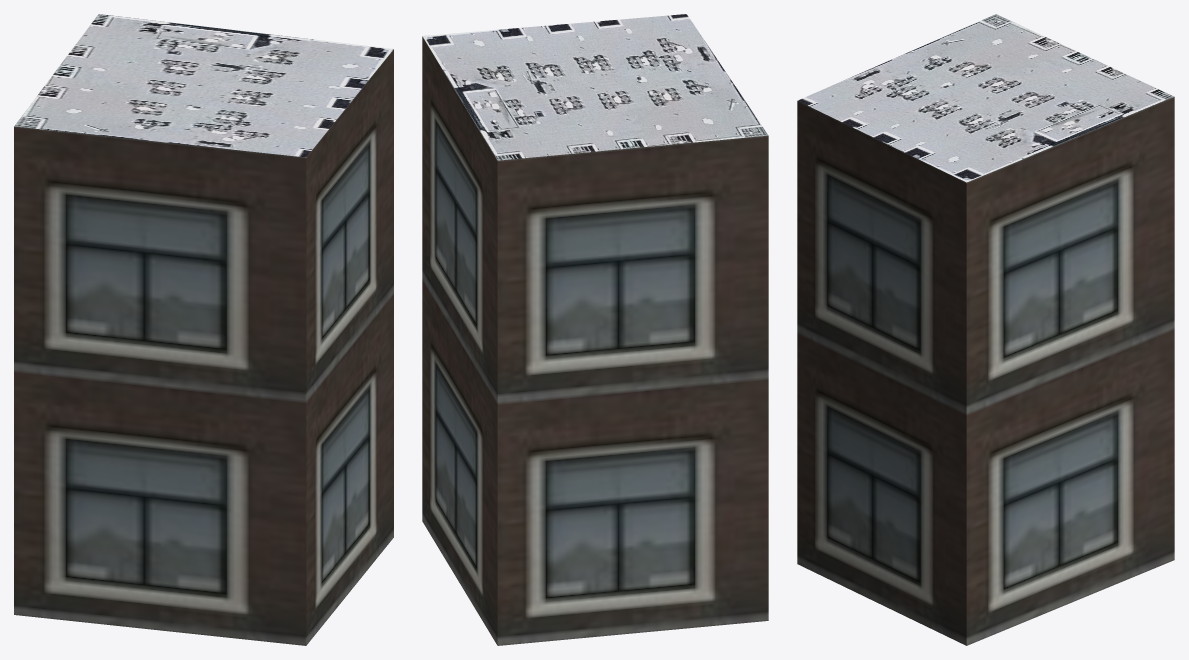
Rendered from ResTex__1444.fbx.
3 renders of one model, left to right at view 1: azimuth 30°, elevation 25°; view 2: azimuth 150°, elevation 25°; view 3: azimuth 270°, elevation 25°, orthographic. The views are drawn at different scales.
Visible parts, largest first — view 1: CityEngineMaterial_16_m, CityEngineMaterial_15_m; view 2: CityEngineMaterial_16_m, CityEngineMaterial_15_m; view 3: CityEngineMaterial_16_m, CityEngineMaterial_15_m.
Boxes of the visible parts, x1=… form: CityEngineMaterial_16_m: x1=14, y1=49, x2=393, y2=645; CityEngineMaterial_15_m: x1=14, y1=14, x2=393, y2=157; CityEngineMaterial_16_m: x1=422, y1=36, x2=768, y2=645; CityEngineMaterial_15_m: x1=422, y1=14, x2=768, y2=160; CityEngineMaterial_16_m: x1=797, y1=97, x2=1174, y2=645; CityEngineMaterial_15_m: x1=797, y1=14, x2=1174, y2=182.
Bounding box in the file's own units: 4.68 × 6 × 4.43.
Materials: 2 (2 with a texture image).
